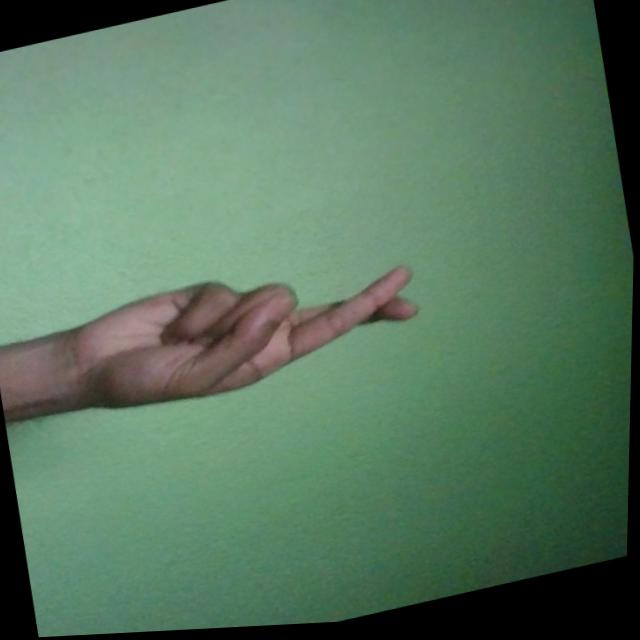Good Luck: (60, 239, 429, 427)
